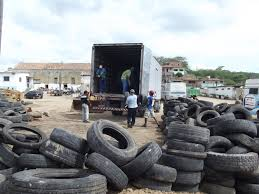tire: (8, 167, 107, 194), (87, 118, 137, 165), (82, 152, 129, 190), (120, 141, 164, 181), (39, 138, 90, 168), (203, 149, 259, 173), (1, 122, 50, 149), (51, 127, 92, 154), (225, 105, 253, 133), (195, 108, 224, 129), (183, 103, 203, 122)
